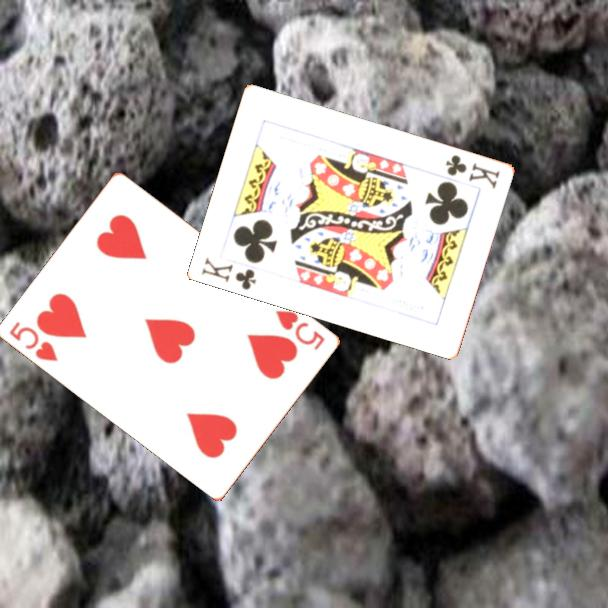c13: (442, 151, 503, 191), (198, 253, 259, 293)
h05: (272, 307, 328, 353), (6, 318, 61, 364)
